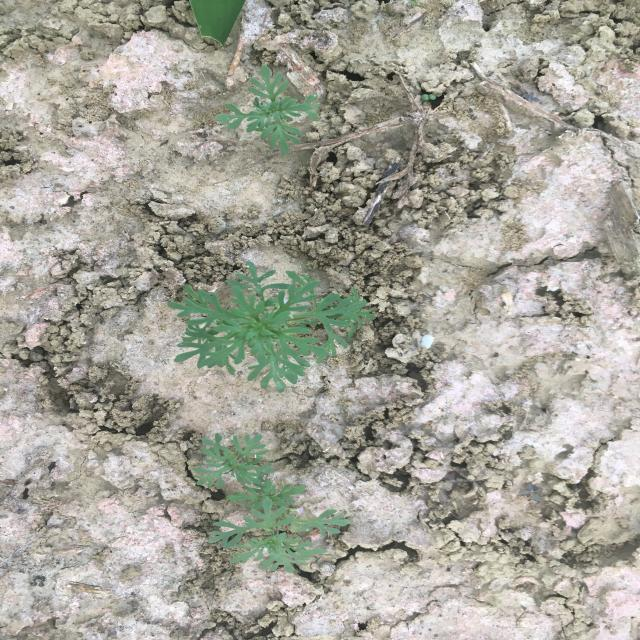Ragweed: (165, 259, 378, 395), (190, 430, 353, 574), (212, 63, 322, 157)
